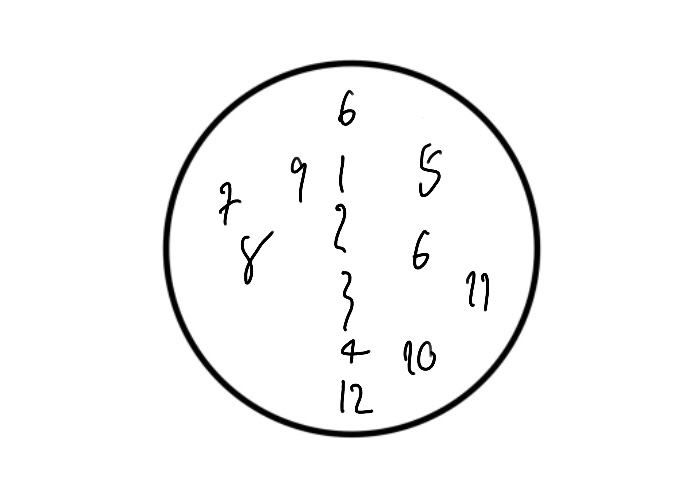eight: (238, 229, 274, 287)
eleven: (465, 262, 492, 312)
five: (412, 136, 443, 204)
four: (337, 335, 376, 371)
nine: (285, 153, 312, 206)
one: (335, 149, 351, 200)
seven: (213, 180, 246, 231)
six: (405, 224, 440, 278), (333, 85, 362, 137)
ten: (399, 339, 440, 379)
three: (338, 262, 356, 336)
twelve: (337, 375, 377, 419)
two: (331, 199, 351, 255)
